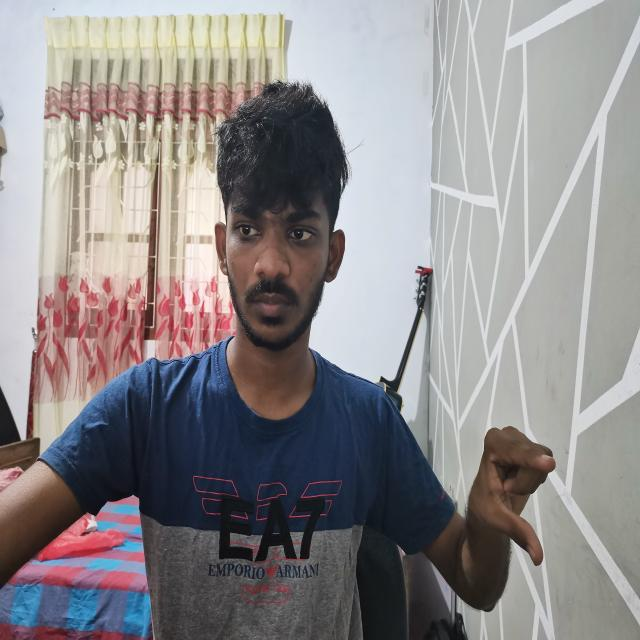No: (462, 415, 562, 578)
